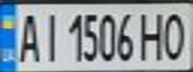0: (97, 9, 118, 63)
1: (63, 9, 84, 62)
5: (78, 9, 100, 62)
6: (115, 9, 139, 62)
A: (12, 8, 42, 64)
H: (136, 8, 169, 62)
I: (36, 8, 63, 63)
O: (160, 8, 190, 61)
